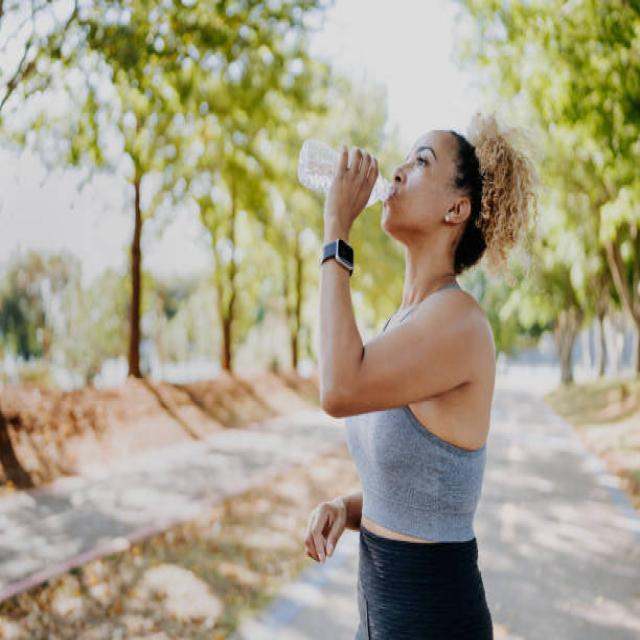Bottle: (299, 139, 339, 192)
